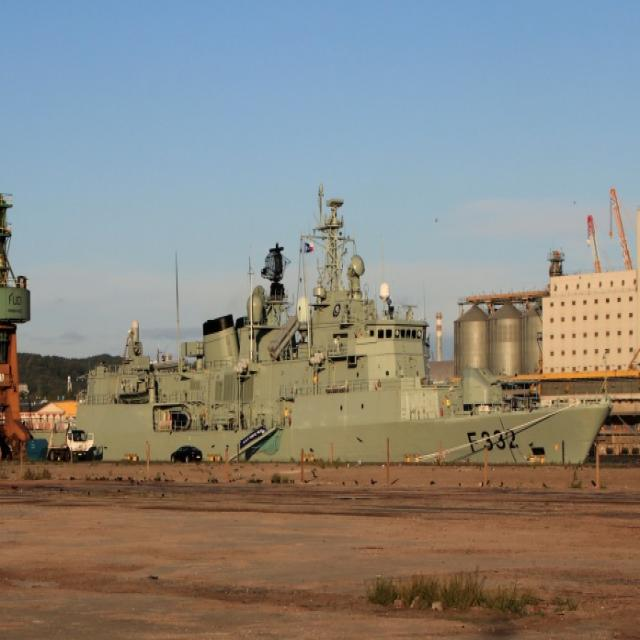Fragata: (55, 186, 622, 473)
